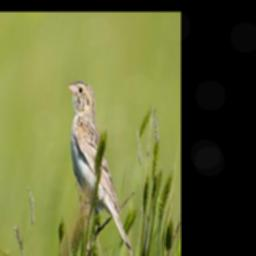Sparrow: (67, 78, 136, 256)
